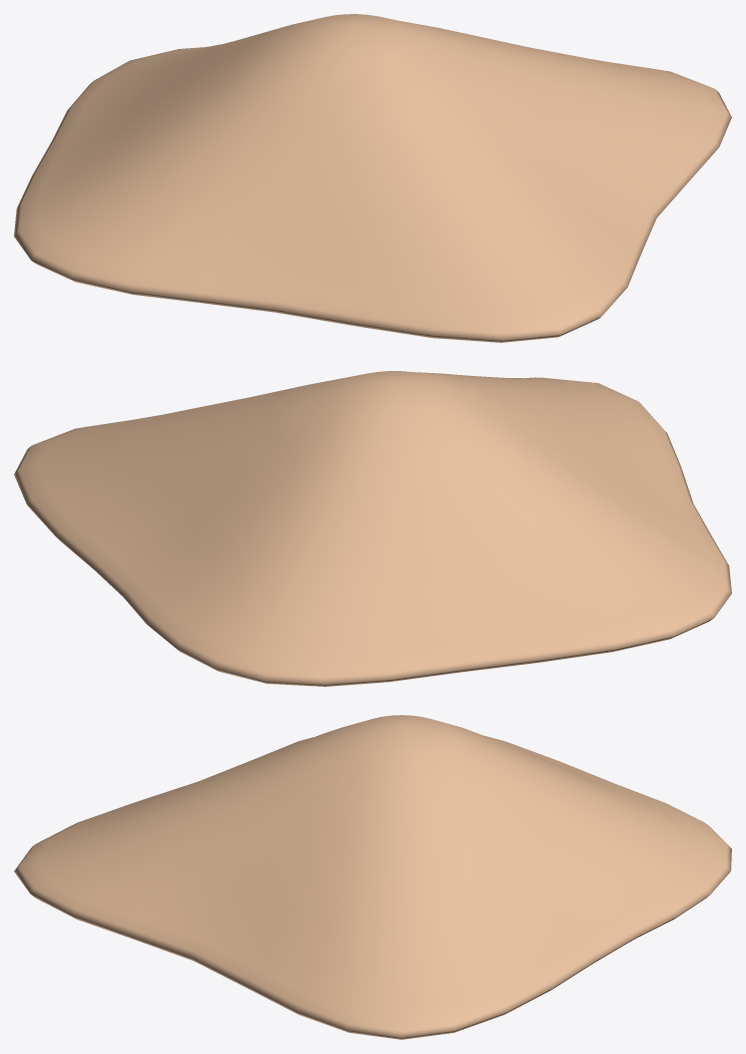
The model's file is toothpowder.glb.
3 renders of one model, top to bottom at view 1: azimuth 30°, elevation 25°; view 2: azimuth 150°, elevation 25°; view 3: azimuth 270°, elevation 25°, orthographic. The views are drawn at different scales.
Visible parts, largest first — view 1: Sphere; view 2: Sphere; view 3: Sphere.
Boxes of the visible parts, <box> form: Sphere: <box>14,14,731,342</box>; Sphere: <box>14,371,731,686</box>; Sphere: <box>14,715,731,1039</box>.
Size of the model in its own units: 4.04 by 0.9297 by 3.93.
